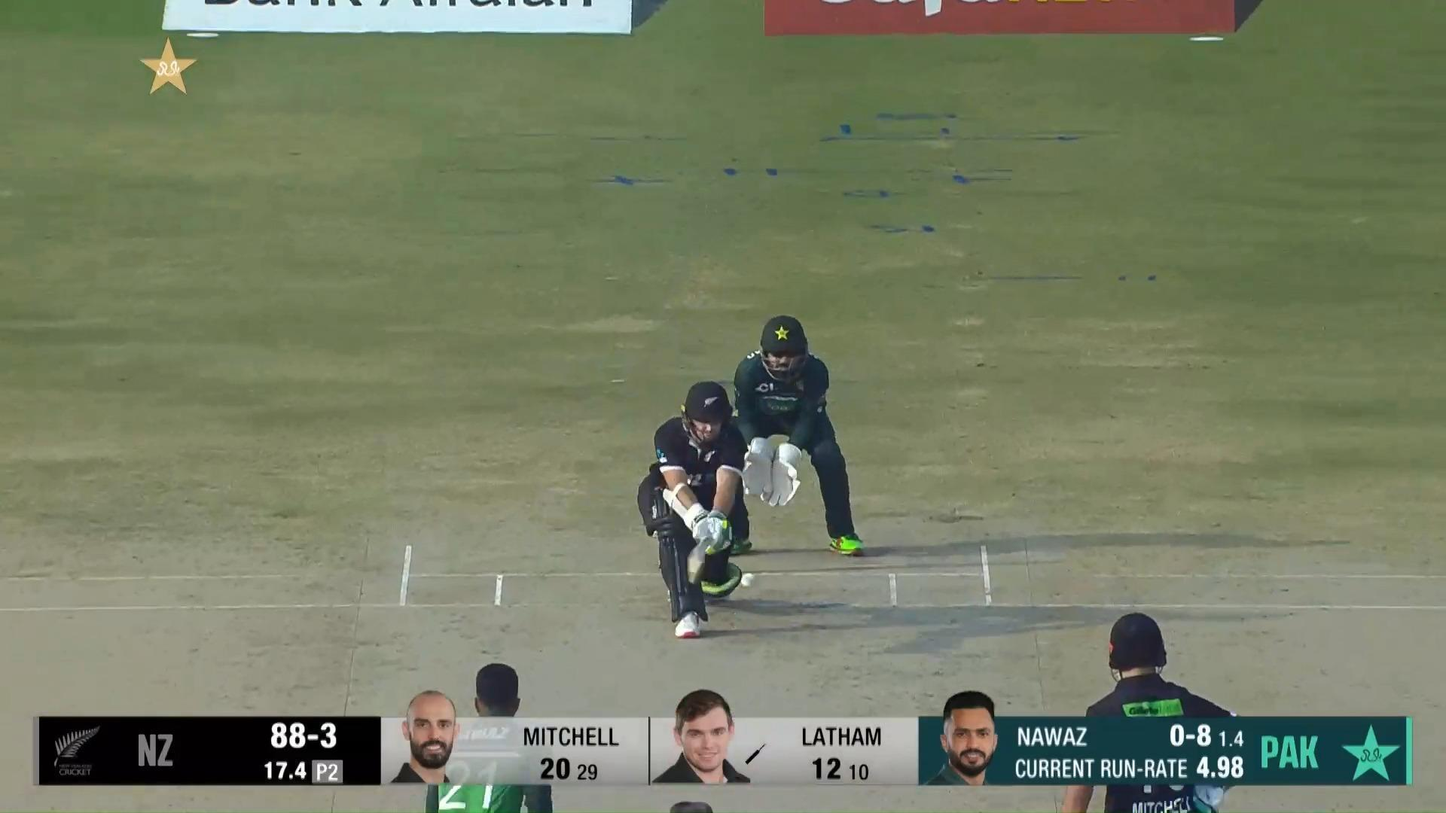BM 1: (635, 378, 750, 641)
BO: (424, 662, 554, 813)
